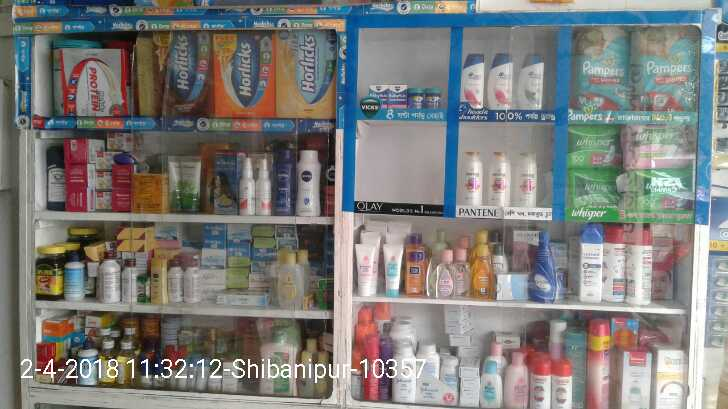vicks: (371, 84, 442, 112)
